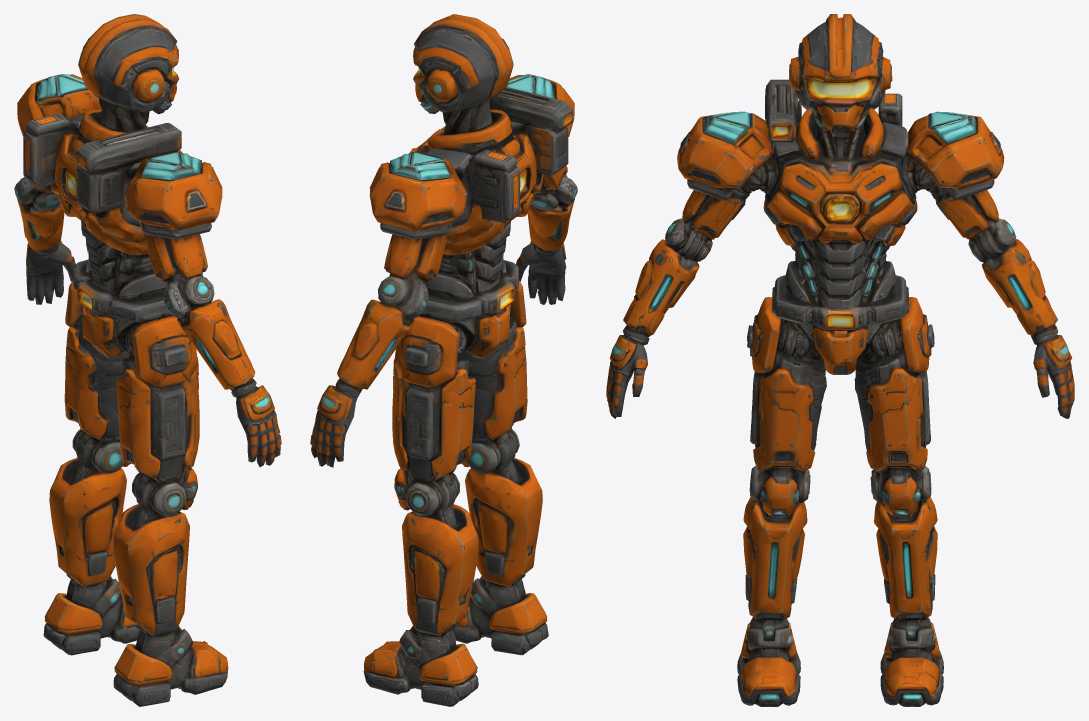
Rendered from enemy_apose.glb.
The picture shows the model from 3 angles, left to right: view 1: azimuth 30°, elevation 25°; view 2: azimuth 150°, elevation 25°; view 3: azimuth 270°, elevation 25°; orthographic projection. The views are drawn at different scales.
Visible parts, largest first — view 1: tripo_node_36a11519-c2e9-490e-83fe-0c7842666de5; view 2: tripo_node_36a11519-c2e9-490e-83fe-0c7842666de5; view 3: tripo_node_36a11519-c2e9-490e-83fe-0c7842666de5.
Boxes of the visible parts, x1,y1,x2,y2 form: tripo_node_36a11519-c2e9-490e-83fe-0c7842666de5: [14, 14, 281, 706]; tripo_node_36a11519-c2e9-490e-83fe-0c7842666de5: [310, 14, 577, 706]; tripo_node_36a11519-c2e9-490e-83fe-0c7842666de5: [606, 14, 1074, 706].
Bounding box in the file's own units: 0.2158 × 0.9787 × 0.6292.
1 material, 1 textured.
